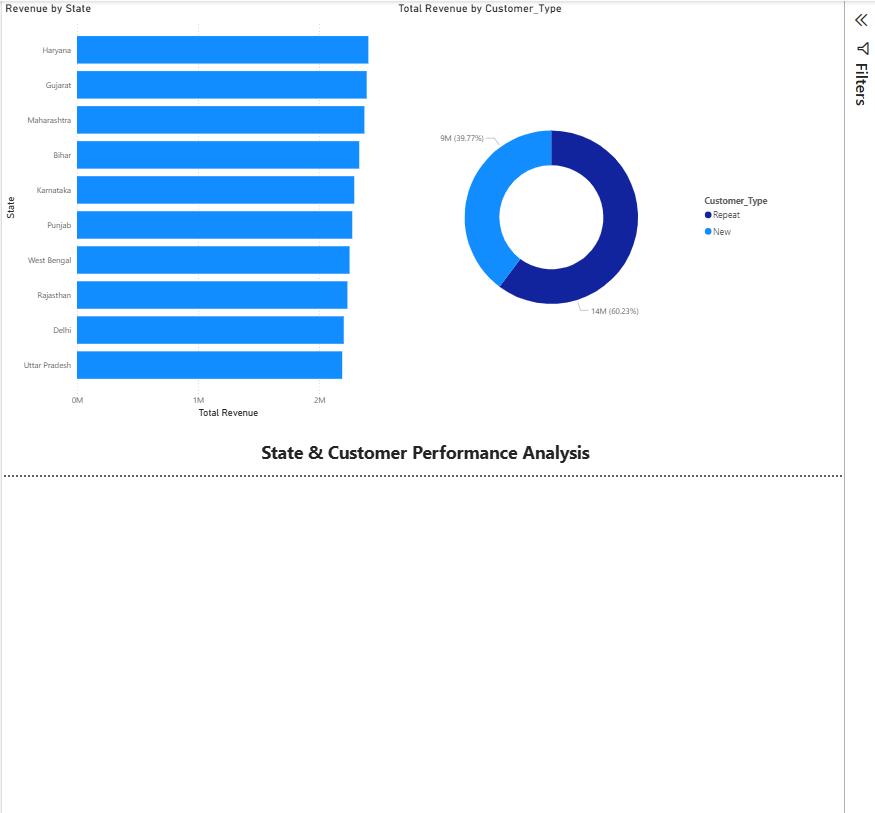

This screenshot's page, from the dashboard's own definition file:
{"tool":"powerbi","page":{"name":"State & Customer Analysis","canvas":[1280,720],"ordinal":1},"visuals":[{"type":"clusteredBarChart","title":"Revenue by State","fields":{"Category":["dashboard_data.State"],"Y":["dashboard_data.Total Revenue"]},"box":[0,0,588.3,638.5],"z":0},{"type":"donutChart","fields":{"Category":["dashboard_data.Customer_Type"],"Y":["dashboard_data.Total Revenue"]},"box":[597.4,0,588.3,638.5],"z":1},{"type":"textbox","box":[389.2,662.8,516.9,57.8],"z":2}]}

Visuals, with their boxes on the page's 1280x720 design canvas (x1, y1, x2, y2). These are canvas units, not pixel positions in the 875x813 screenshot, which may show the page scaled, cropped or inside an application window:
"Revenue by State" clusteredBarChart: <box>0,0,588,638</box>
donutChart - dashboard_data.Customer_Type x dashboard_data.Total Revenue: <box>597,0,1186,638</box>
textbox: <box>389,663,906,721</box>
